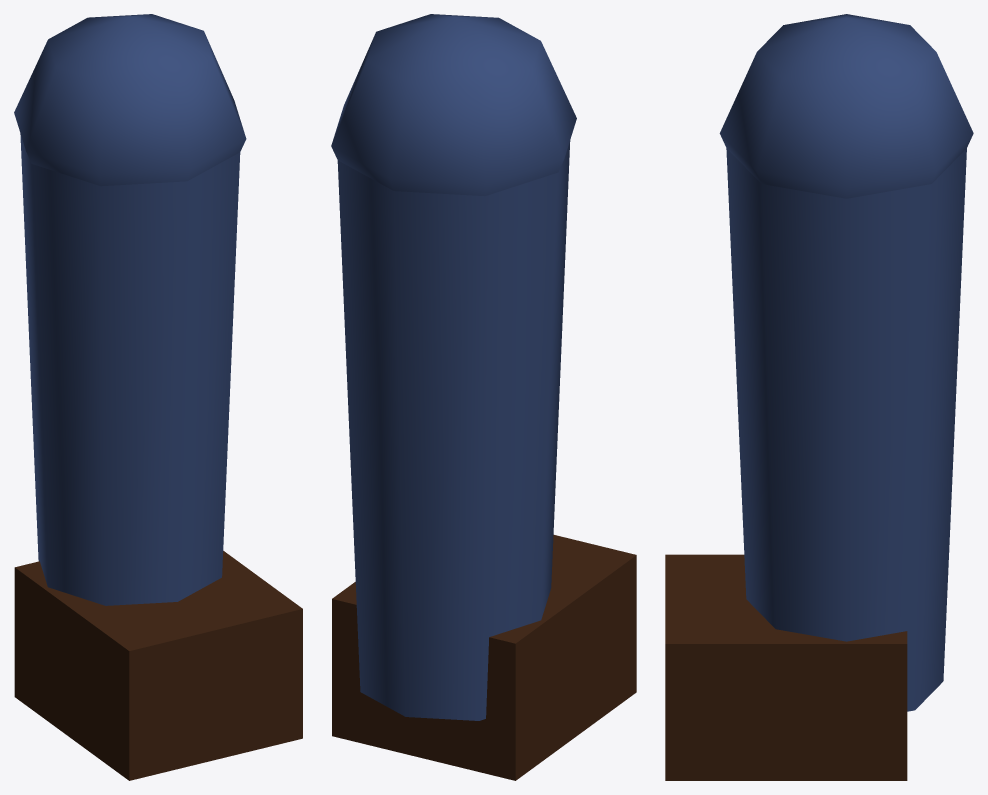
The model's file is PRezo_Pantorrilla.obj.
3 renders of one model, left to right at view 1: azimuth 30°, elevation 25°; view 2: azimuth 150°, elevation 25°; view 3: azimuth 270°, elevation 25°, orthographic. The views are drawn at different scales.
Visible parts, largest first — view 1: Pantorrilla; view 2: Pantorrilla; view 3: Pantorrilla.
Boxes of the visible parts, bbox=[...] form: Pantorrilla: bbox=[14, 14, 302, 780]; Pantorrilla: bbox=[331, 14, 636, 780]; Pantorrilla: bbox=[665, 14, 973, 780].
Size of the model in its own units: 0.084 by 0.262 by 0.102.
Materials: 1 (1 with a texture image).
